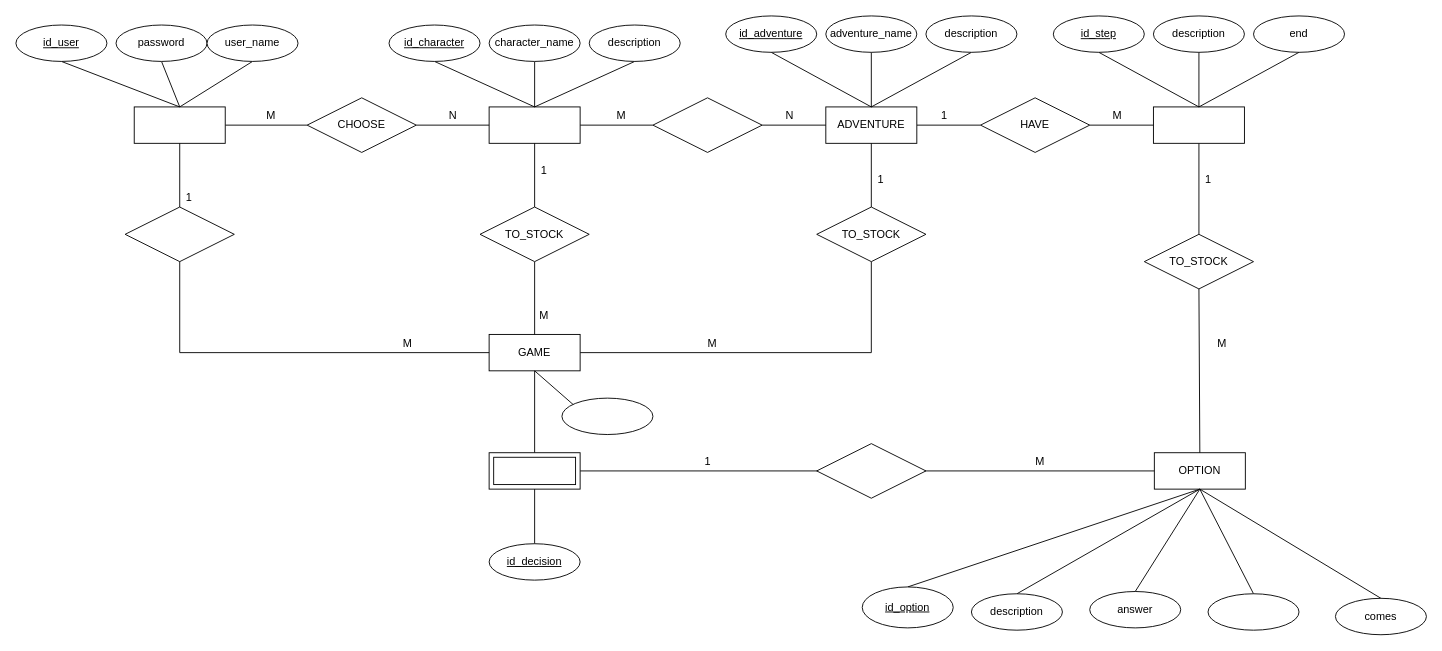
Image size: 1442x651. Some labels were removed from this diagram. Each missing label, with the centre of its shape:
CHARACTER: pixel 534 124
current_date: pixel 607 416
DECISION: pixel 534 470
go: pixel 1253 611
PLAY: pixel 179 234
SAVE: pixel 871 470
STAR IN: pixel 707 124
STEPS: pixel 1198 124
USER: pixel 179 124
